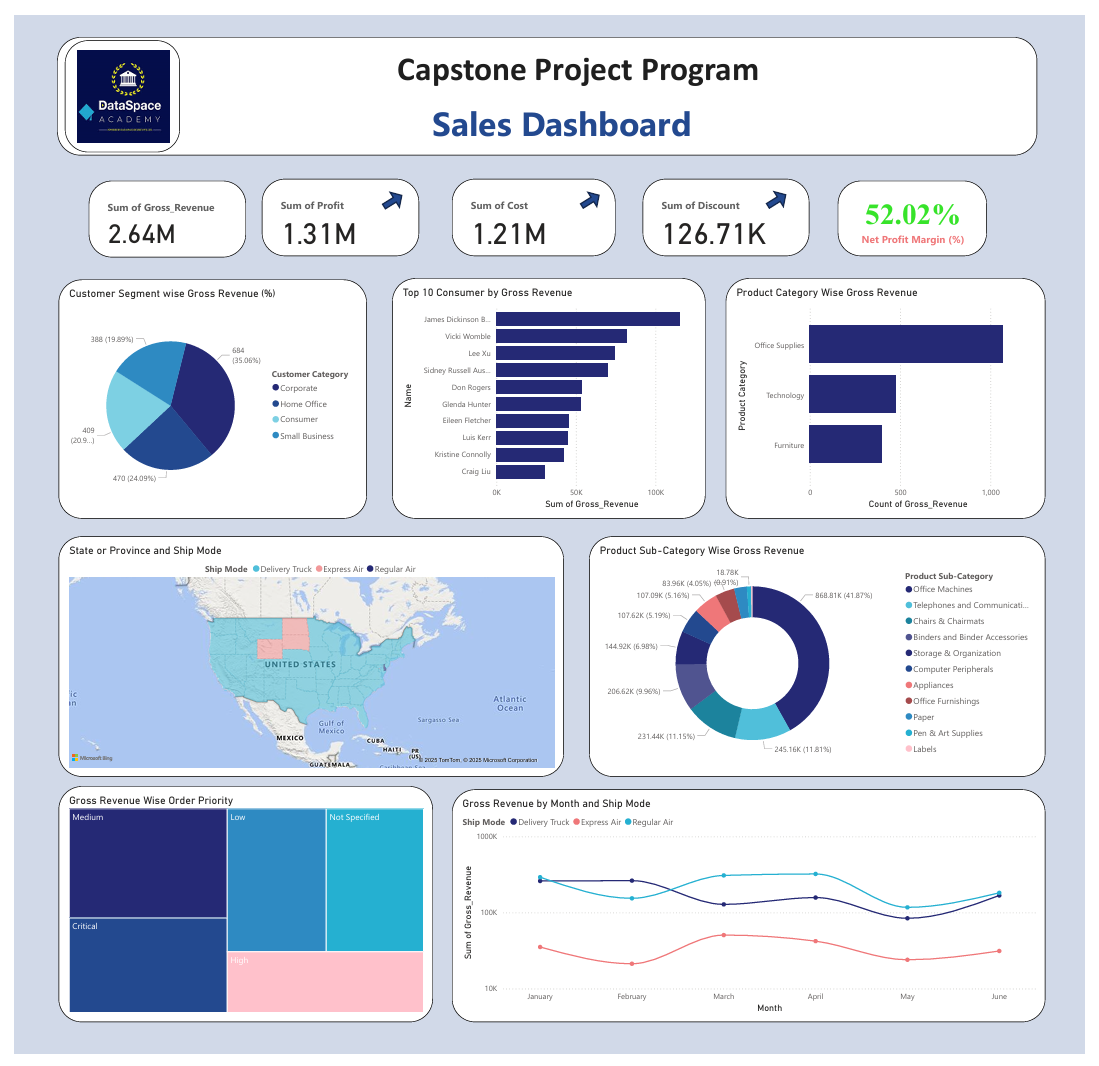

The page's visual inventory and layout, read from the dashboard file:
{"tool":"powerbi","page":{"name":"Sales Dashboard","canvas":[1700,1650],"ordinal":0},"visuals":[{"type":"pieChart","title":"Customer Segment wise Gross Revenue (%)","fields":{"Category":["Raw Data.Customer Category"],"Y":["KPI_Task.Gross_Revenue"]},"box":[70,420,490,380],"z":0},{"type":"barChart","title":"Top 10 Consumer by Gross Revenue ","fields":{"Category":["Customer info.Name"],"Y":["KPI_Task.Gross_Revenue"]},"box":[600,417.5,497.5,382.5],"z":1000},{"type":"clusteredBarChart","title":"Product Category Wise Gross Revenue","fields":{"Category":["Raw Data.Product Category"],"Y":["KPI_Task.Gross_Revenue"]},"box":[1130,417.5,507.5,382.5],"z":2000},{"type":"lineChart","title":"Gross Revenue by Month and Ship Mode","fields":{"Series":["Raw Data.Ship Mode"],"Y":["KPI_Task.Gross_Revenue"],"Category":["Raw Data.Order Date.Variation.Date Hierarchy.Month"]},"box":[695,1230,942.5,370],"z":3000},{"type":"treemap","title":"Gross Revenue Wise Order Priority","fields":{"Group":["Raw Data.Order Priority"],"Values":["KPI_Task.Gross_Revenue"]},"box":[70,1225,595,375],"z":4000},{"type":"donutChart","title":"Product Sub-Category Wise Gross Revenue","fields":{"Category":["Raw Data.Product Sub-Category"],"Y":["KPI_Task.Gross_Revenue"]},"box":[912.5,827.5,725,382.5],"z":5000},{"type":"filledMap","fields":{"Series":["Raw Data.Ship Mode"],"Category":["Raw Data.State or Province"]},"box":[70,827.5,802.5,382.5],"z":6000},{"type":"card","title":"Monthly KPI","fields":{"Values":["KPI_Task.Grosss Profit Margin (%)"]},"box":[1307.5,262.5,237.5,120],"z":7000},{"type":"cardVisual","fields":{"Data":["KPI_Task.Discount"]},"box":[997.5,260,265,122.5],"z":8000},{"type":"cardVisual","fields":{"Data":["KPI_Task.Cost"]},"box":[695,260,260,122.5],"z":9000},{"type":"cardVisual","fields":{"Data":["KPI_Task.Gross_Revenue"]},"box":[117.5,262.5,250,122.5],"z":10000},{"type":"cardVisual","fields":{"Data":["KPI_Task.Profit"]},"box":[392.5,260,250,122.5],"z":11000},{"type":"textbox","box":[67.5,35,1557.5,187.5],"z":12000},{"type":"image","box":[80,40,182.5,177.5],"z":13000},{"type":"shape","box":[578.6,280,42.9,28.6],"z":15000},{"type":"shape","box":[892.5,280,42.5,27.5],"z":16000},{"type":"shape","box":[1188.8,278.8,42.5,28.8],"z":17000}]}

Visuals, with their boxes in screenshot pixels (x1, y1, x2, y2), scaled from the page's 1700x1650 canvas onto the 1099x1066 screenshot:
"Customer Segment wise Gross Revenue (%)" pieChart: {"x1": 45, "y1": 271, "x2": 362, "y2": 517}
"Top 10 Consumer by Gross Revenue " barChart: {"x1": 388, "y1": 270, "x2": 710, "y2": 517}
"Product Category Wise Gross Revenue" clusteredBarChart: {"x1": 731, "y1": 270, "x2": 1059, "y2": 517}
"Gross Revenue by Month and Ship Mode" lineChart: {"x1": 449, "y1": 795, "x2": 1059, "y2": 1034}
"Gross Revenue Wise Order Priority" treemap: {"x1": 45, "y1": 791, "x2": 430, "y2": 1034}
"Product Sub-Category Wise Gross Revenue" donutChart: {"x1": 590, "y1": 535, "x2": 1059, "y2": 782}
filledMap - Raw Data.Ship Mode x Raw Data.State or Province: {"x1": 45, "y1": 535, "x2": 564, "y2": 782}
"Monthly KPI" card: {"x1": 845, "y1": 170, "x2": 999, "y2": 247}
cardVisual - KPI_Task.Discount: {"x1": 645, "y1": 168, "x2": 816, "y2": 247}
cardVisual - KPI_Task.Cost: {"x1": 449, "y1": 168, "x2": 617, "y2": 247}
cardVisual - KPI_Task.Gross_Revenue: {"x1": 76, "y1": 170, "x2": 238, "y2": 249}
cardVisual - KPI_Task.Profit: {"x1": 254, "y1": 168, "x2": 415, "y2": 247}
textbox: {"x1": 44, "y1": 23, "x2": 1051, "y2": 144}
image: {"x1": 52, "y1": 26, "x2": 170, "y2": 141}
shape: {"x1": 374, "y1": 181, "x2": 402, "y2": 199}
shape: {"x1": 577, "y1": 181, "x2": 604, "y2": 199}
shape: {"x1": 769, "y1": 180, "x2": 796, "y2": 199}
